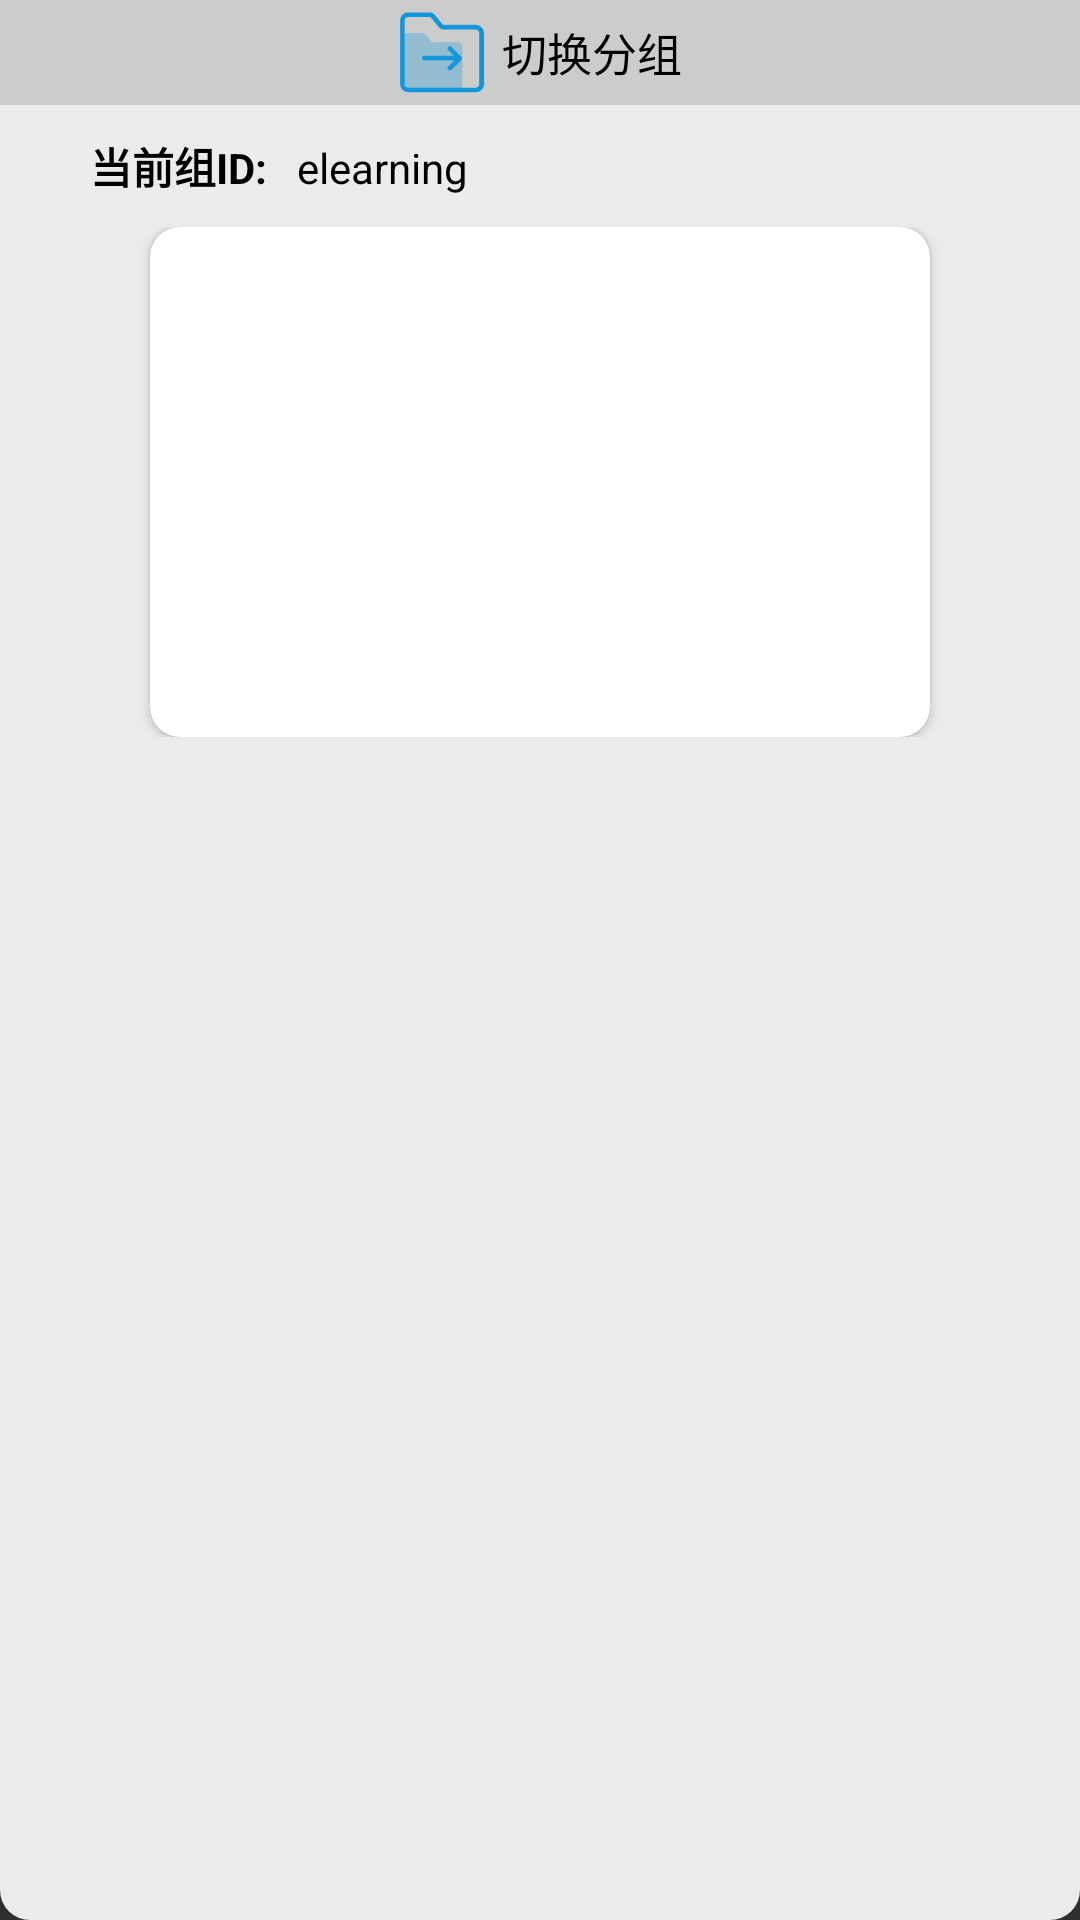

Screen size 1080×1920. Icon name, then its box in pixels as box=[x1, y1, x2, y2]:
note file move: box=[400, 12, 484, 93]
